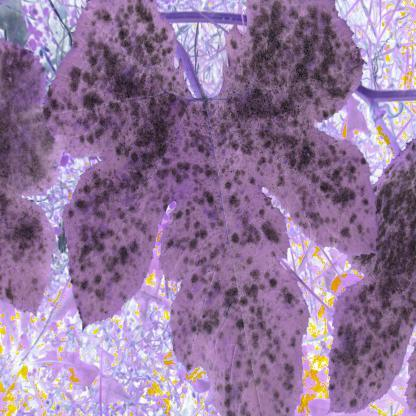Squash Powdery mildew leaf: (46, 2, 378, 416), (326, 144, 416, 409), (0, 41, 59, 314)
